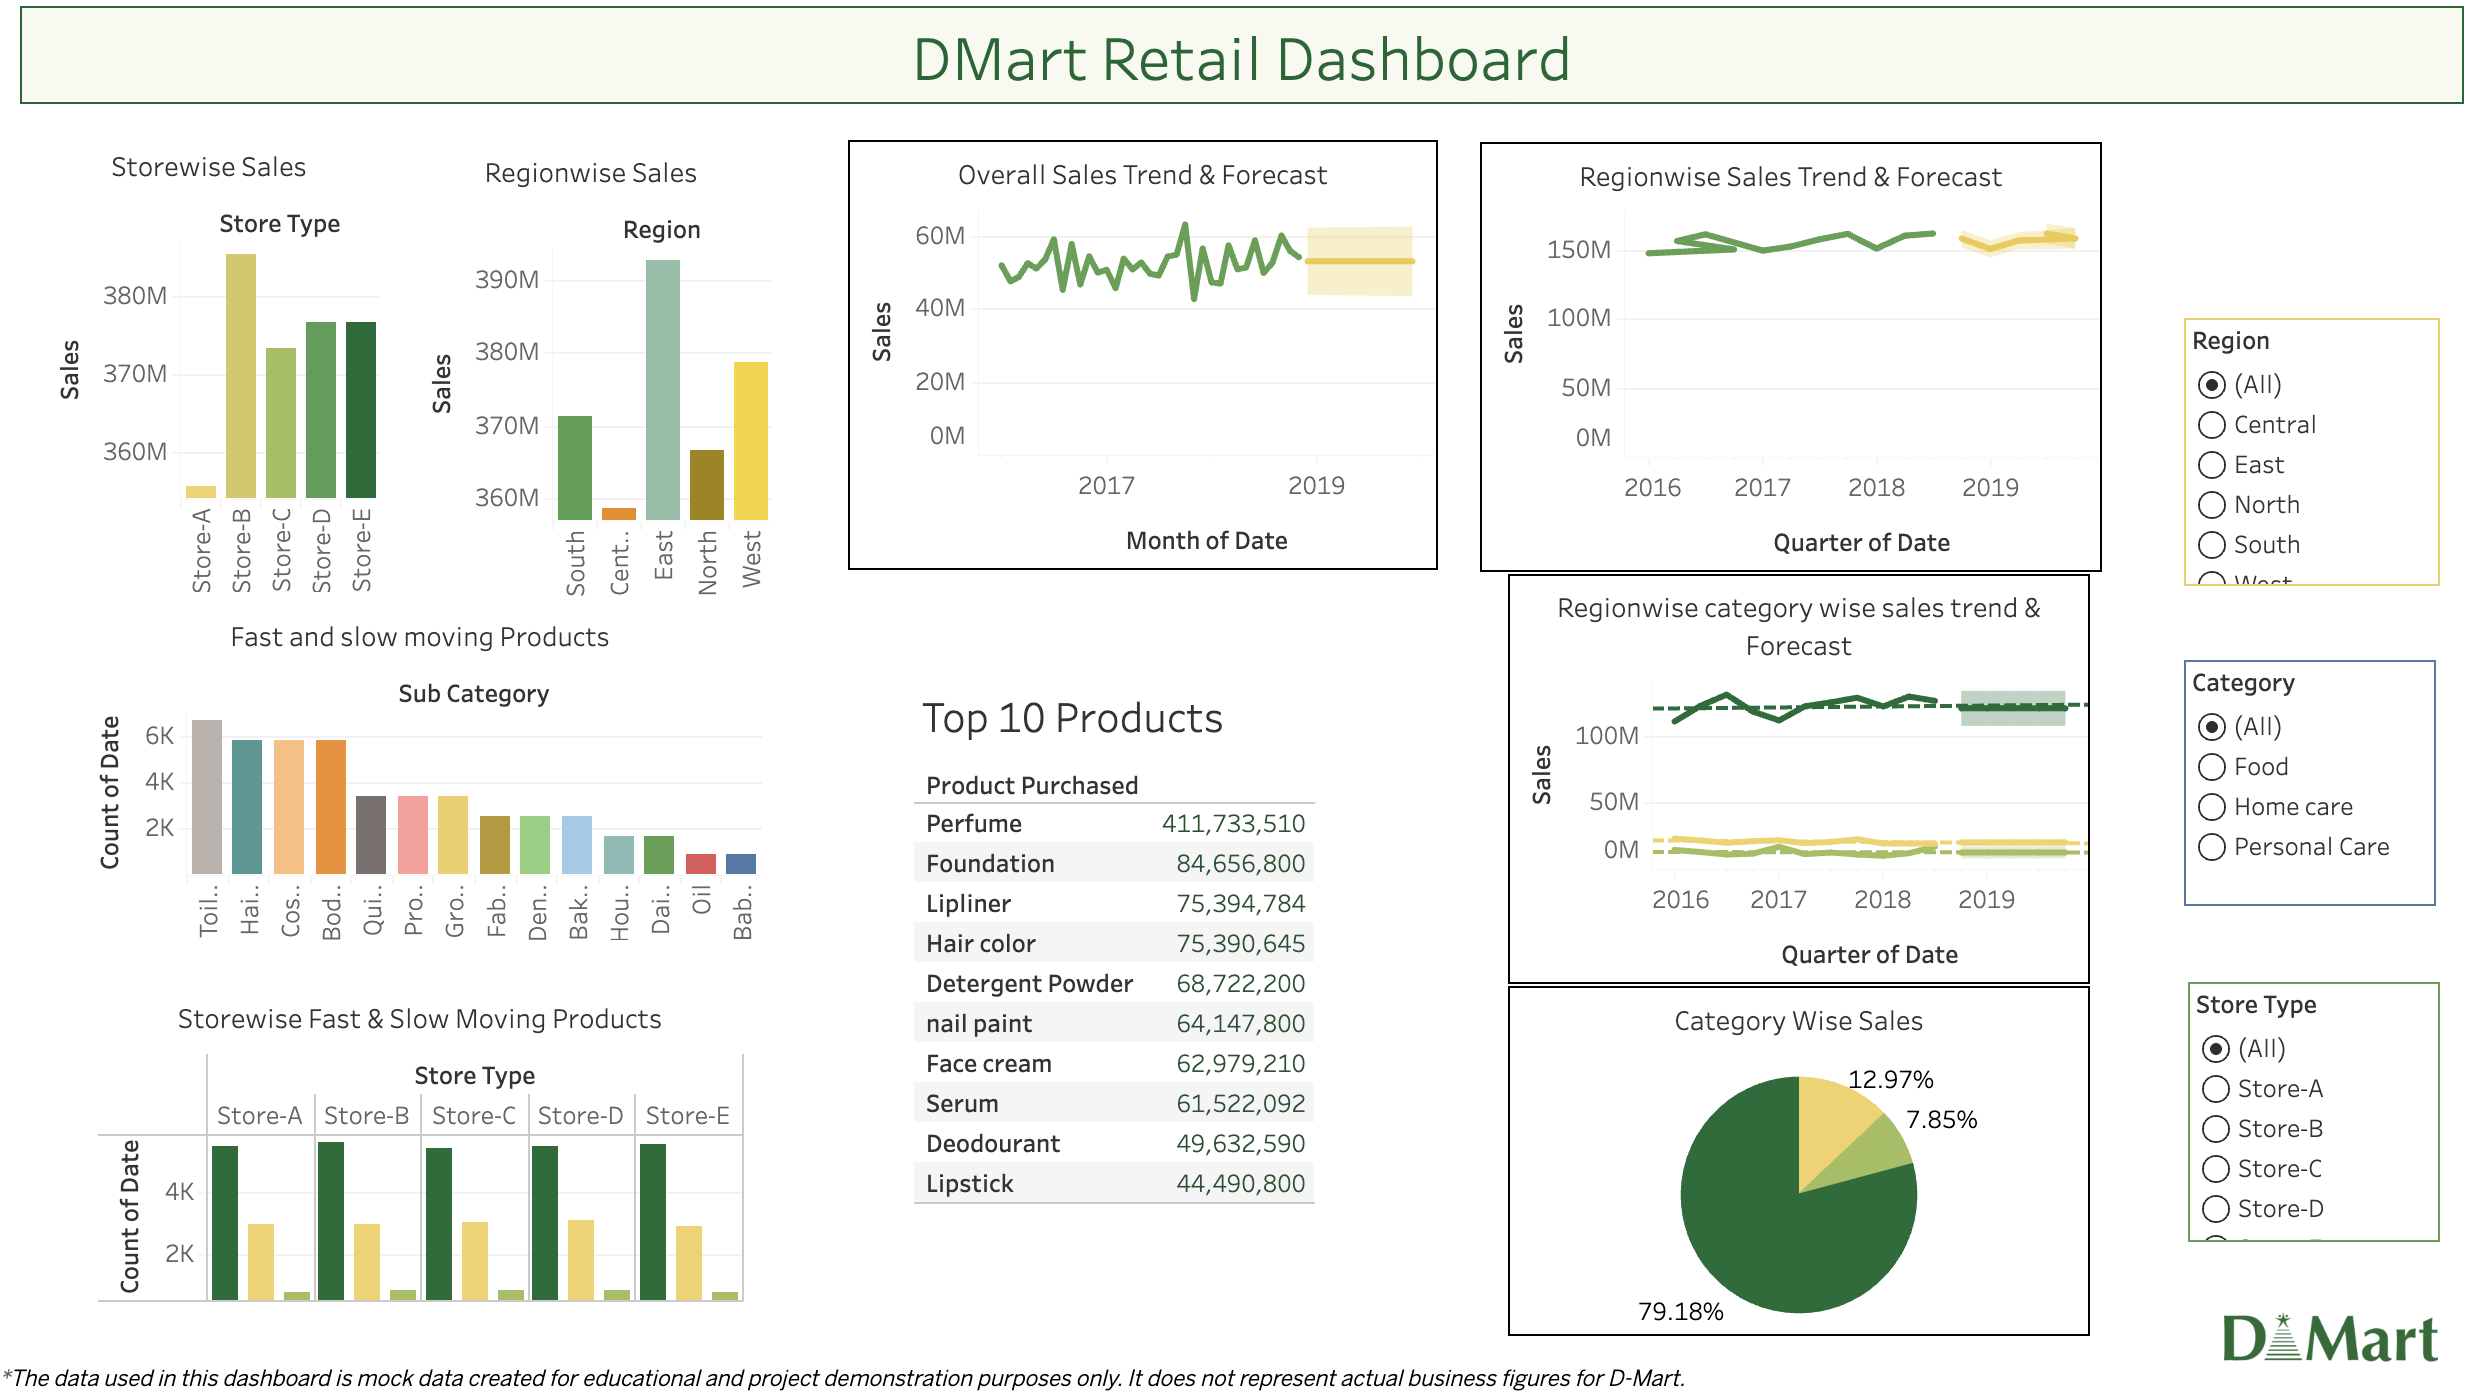

The page's visual inventory and layout, read from the dashboard file:
{"tool":"tableau","page":{"name":"Dashboard 1","canvas":[1000,1000],"units":"permille","ordinal":0},"visuals":[{"type":"text","box":[6.2,12.3,754.3,69.6]},{"type":"worksheet","title":"Storewise Sales","mark":"Automatic","rows":["Sales"],"cols":["Store Type"],"box":[11.7,102.9,140.1,325.5]},{"type":"worksheet","title":"Overall Sales Trend & Forecast","mark":"Automatic","rows":["Sales"],"cols":["Date"],"box":[261.7,107.3,182.1,306]},{"type":"worksheet","title":"Regionwise Sales","mark":"Automatic","rows":["Sales"],"cols":["Region"],"box":[126.5,108.1,111.7,325.5]},{"type":"worksheet","title":"Regionwise Sales Trend & Forecast","mark":"Automatic","rows":["Sales"],"cols":["Date"],"box":[456.8,108.8,192,306]},{"type":"filter","title":"Regionwise Sales","param":"[federated.0zt5nek0codaut1eurtu010qgv5q].[none:Region:nk]","box":[674.1,233.4,79,190.8]},{"type":"worksheet","title":"Regionwise category wise sales trend & Forecast","mark":"Automatic","rows":["Sales"],"cols":["Date"],"box":[465.4,415.4,179.6,290.8]},{"type":"worksheet","title":"Fast and slow moving Products","mark":"Automatic","rows":["Date"],"box":[24.1,437.5,211.1,239.6]},{"type":"filter","title":"Storewise Sales","param":"[federated.0zt5nek0codaut1eurtu010qgv5q].[Category]","box":[674.1,476.3,77.8,175.1]},{"type":"worksheet","title":"Sheet 11","mark":"Automatic","rows":["Product Purchased"],"box":[282.1,487.4,139.5,459]},{"type":"filter","title":"Storewise Sales","param":"[federated.0zt5nek0codaut1eurtu010qgv5q].[none:Store Type:nk]","box":[675.3,705.1,77.8,184.5]},{"type":"worksheet","title":"Category Wise Sales","mark":"Pie","box":[465.4,707.7,179.6,247.8]},{"type":"worksheet","title":"Storewise Fast & Slow Moving Products","mark":"Automatic","rows":["Date"],"cols":["Store Type"],"box":[30.2,708.3,199.4,224]},{"type":"text","box":[0,964.4,577.2,40.1]}]}

Visuals, with their boxes on the dashboard's canvas, which has no fixed pixel size, in thousandths of its width and height (x1, y1, x2, y2). These are canvas units, not pixel positions in the 2478x1398 screenshot, which may show the page scaled, cropped or inside an application window:
text: [left=6, top=12, right=760, bottom=82]
"Storewise Sales" worksheet: [left=12, top=103, right=152, bottom=428]
"Overall Sales Trend & Forecast" worksheet: [left=262, top=107, right=444, bottom=413]
"Regionwise Sales" worksheet: [left=126, top=108, right=238, bottom=434]
"Regionwise Sales Trend & Forecast" worksheet: [left=457, top=109, right=649, bottom=415]
"Regionwise Sales" filter: [left=674, top=233, right=753, bottom=424]
"Regionwise category wise sales trend & Forecast" worksheet: [left=465, top=415, right=645, bottom=706]
"Fast and slow moving Products" worksheet: [left=24, top=438, right=235, bottom=677]
"Storewise Sales" filter: [left=674, top=476, right=752, bottom=651]
"Sheet 11" worksheet: [left=282, top=487, right=422, bottom=946]
"Storewise Sales" filter: [left=675, top=705, right=753, bottom=890]
"Category Wise Sales" worksheet (Pie marks): [left=465, top=708, right=645, bottom=956]
"Storewise Fast & Slow Moving Products" worksheet: [left=30, top=708, right=230, bottom=932]
text: [left=0, top=964, right=577, bottom=1004]
